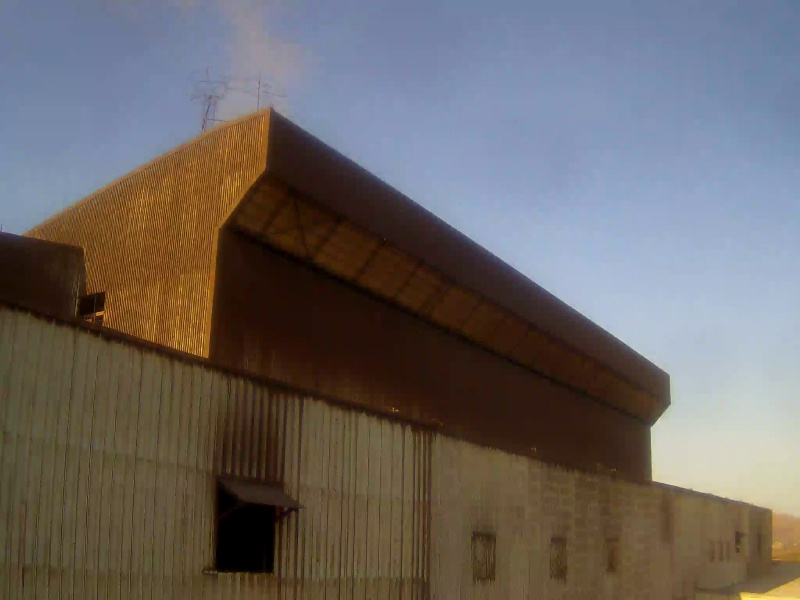Boa: (553, 1, 800, 289), (362, 1, 558, 219), (673, 290, 799, 482)
Ruim: (94, 1, 312, 146)
